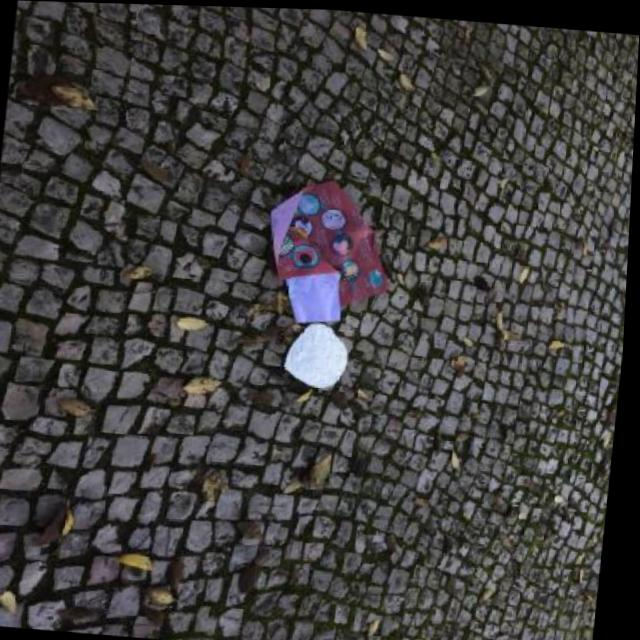metal: (279, 321, 350, 391)
paper: (258, 175, 399, 330)
